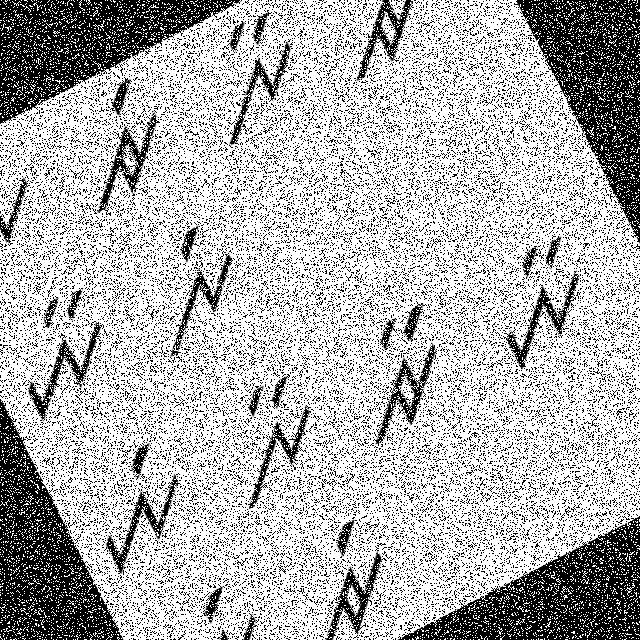lan: (180, 352, 354, 524), (179, 2, 328, 152)
lang: (117, 210, 266, 362), (128, 560, 293, 639)
ran: (318, 289, 482, 451), (300, 0, 453, 91)
rang: (39, 68, 194, 224), (274, 508, 422, 639)
yan: (455, 226, 614, 381), (0, 273, 139, 434)
yang: (58, 421, 216, 580), (0, 130, 62, 283)
